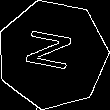N_E: (23, 30, 82, 79)
